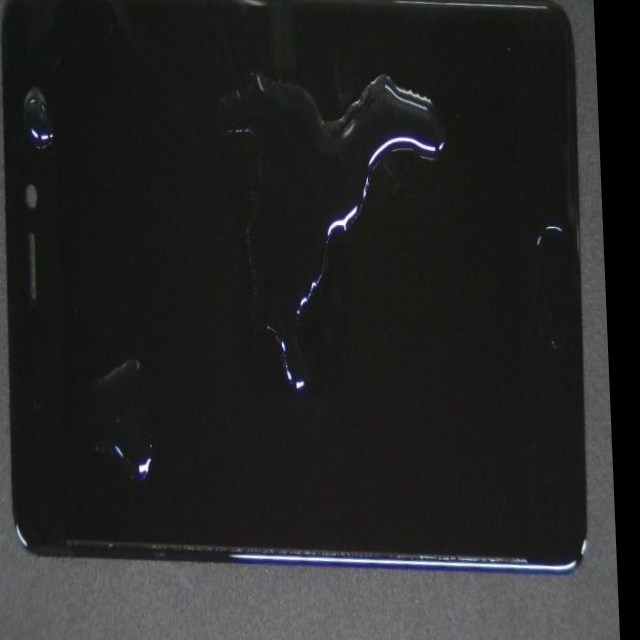oil: (73, 16, 379, 341), (74, 190, 240, 600)
